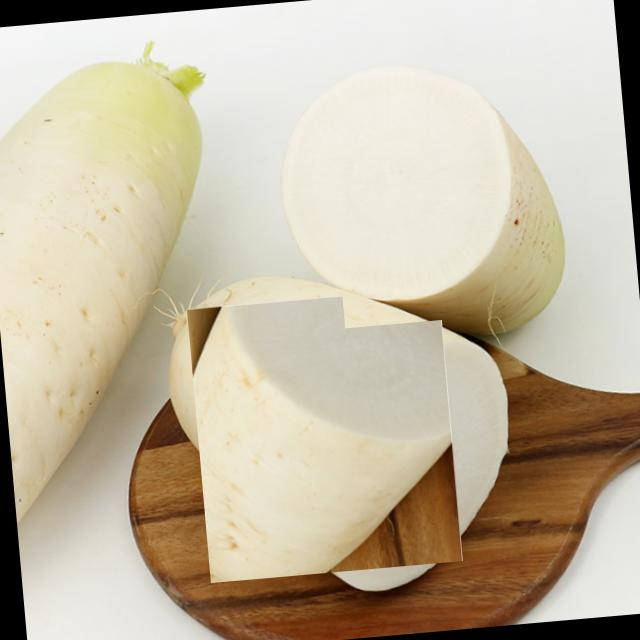radish: (182, 292, 468, 578), (324, 76, 540, 328)
